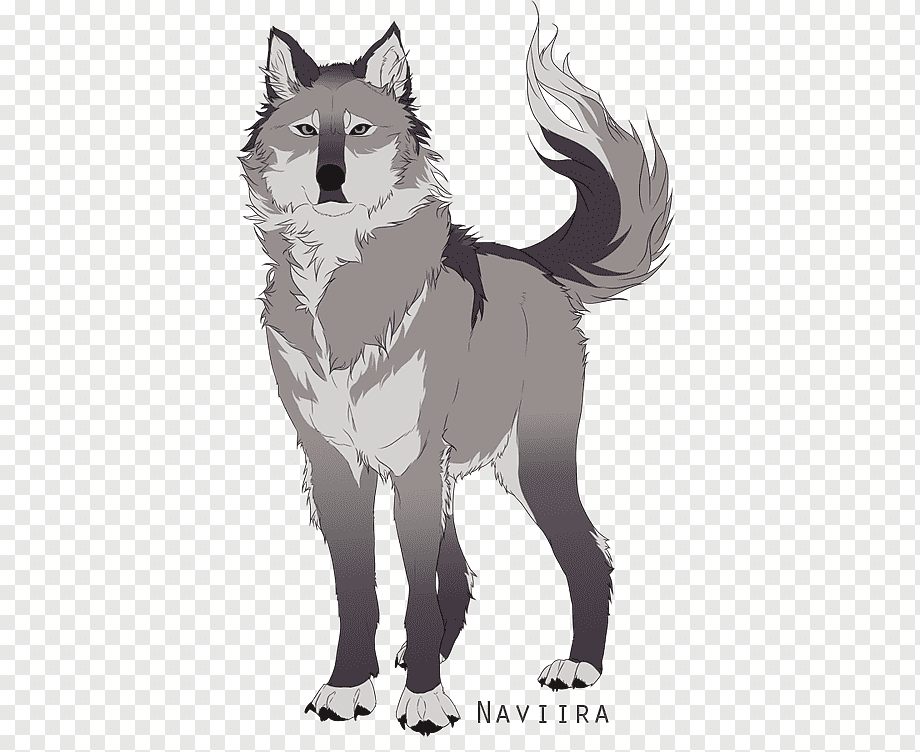Lobo: (161, 1, 739, 752)
